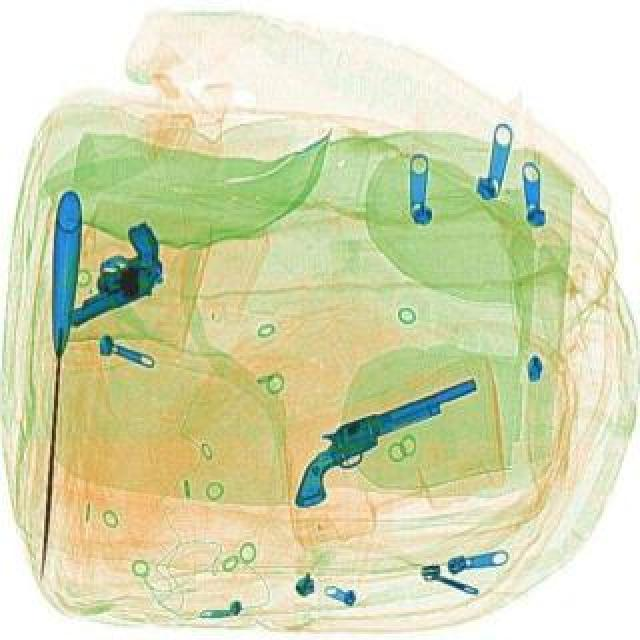gun: (270, 376, 500, 508)
knife: (24, 188, 84, 580), (40, 218, 182, 330)
